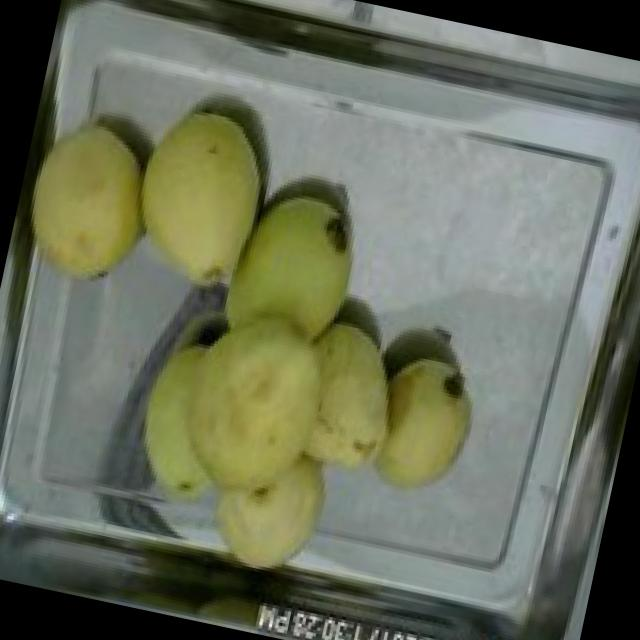Fruit: (100, 266, 418, 593), (104, 90, 290, 318), (2, 106, 174, 307), (206, 175, 377, 361), (360, 342, 491, 509)
